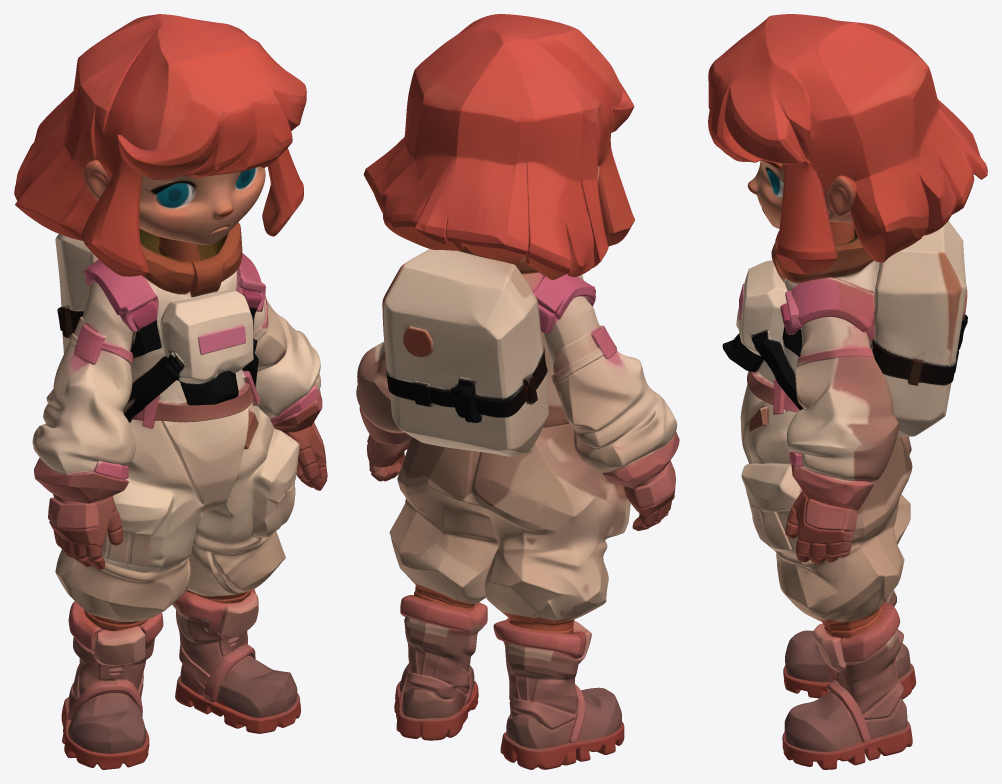
File: A1-paint-suit.glb
The picture shows the model from 3 angles, left to right: view 1: azimuth 30°, elevation 25°; view 2: azimuth 150°, elevation 25°; view 3: azimuth 270°, elevation 25°; orthographic projection. The views are drawn at different scales.
Bounding box in the file's own units: 0.8251 × 1.9 × 0.6951.
Materials: 1 (1 with a texture image).
